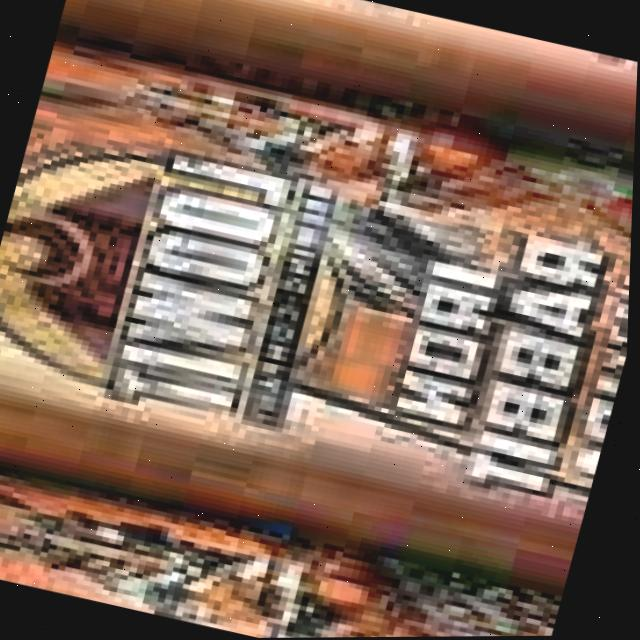metal: (0, 41, 639, 600)
